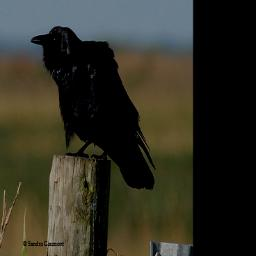Crow: (30, 25, 158, 193)
